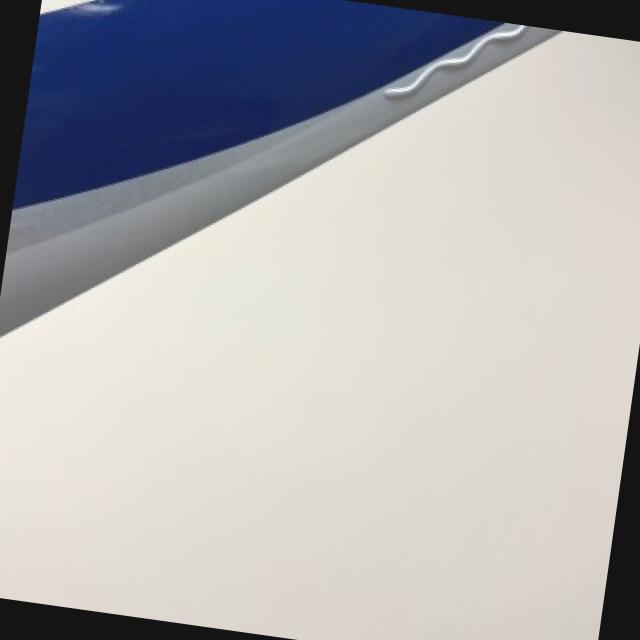healthy: (0, 0, 561, 335)
